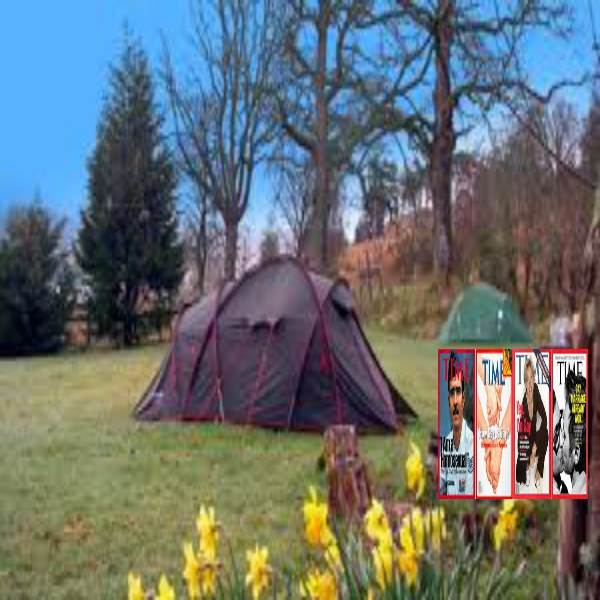time_cover: (434, 344, 472, 497), (478, 343, 512, 500), (516, 348, 549, 497), (555, 349, 584, 495)
